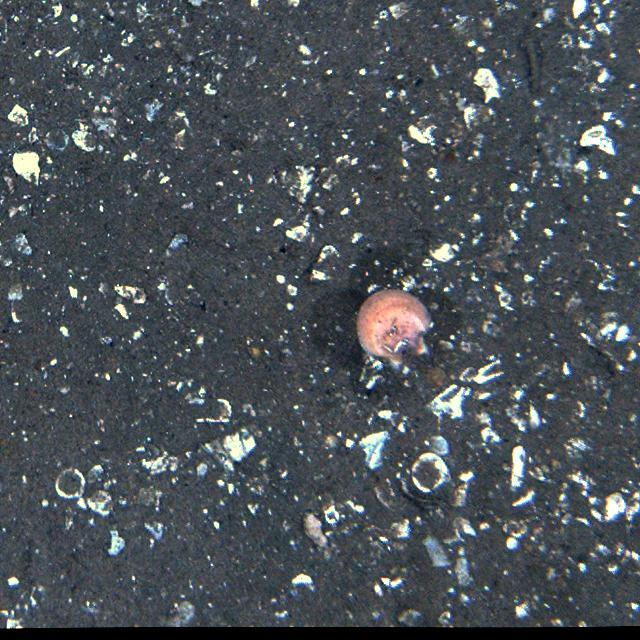scallop: (355, 287, 436, 367)
